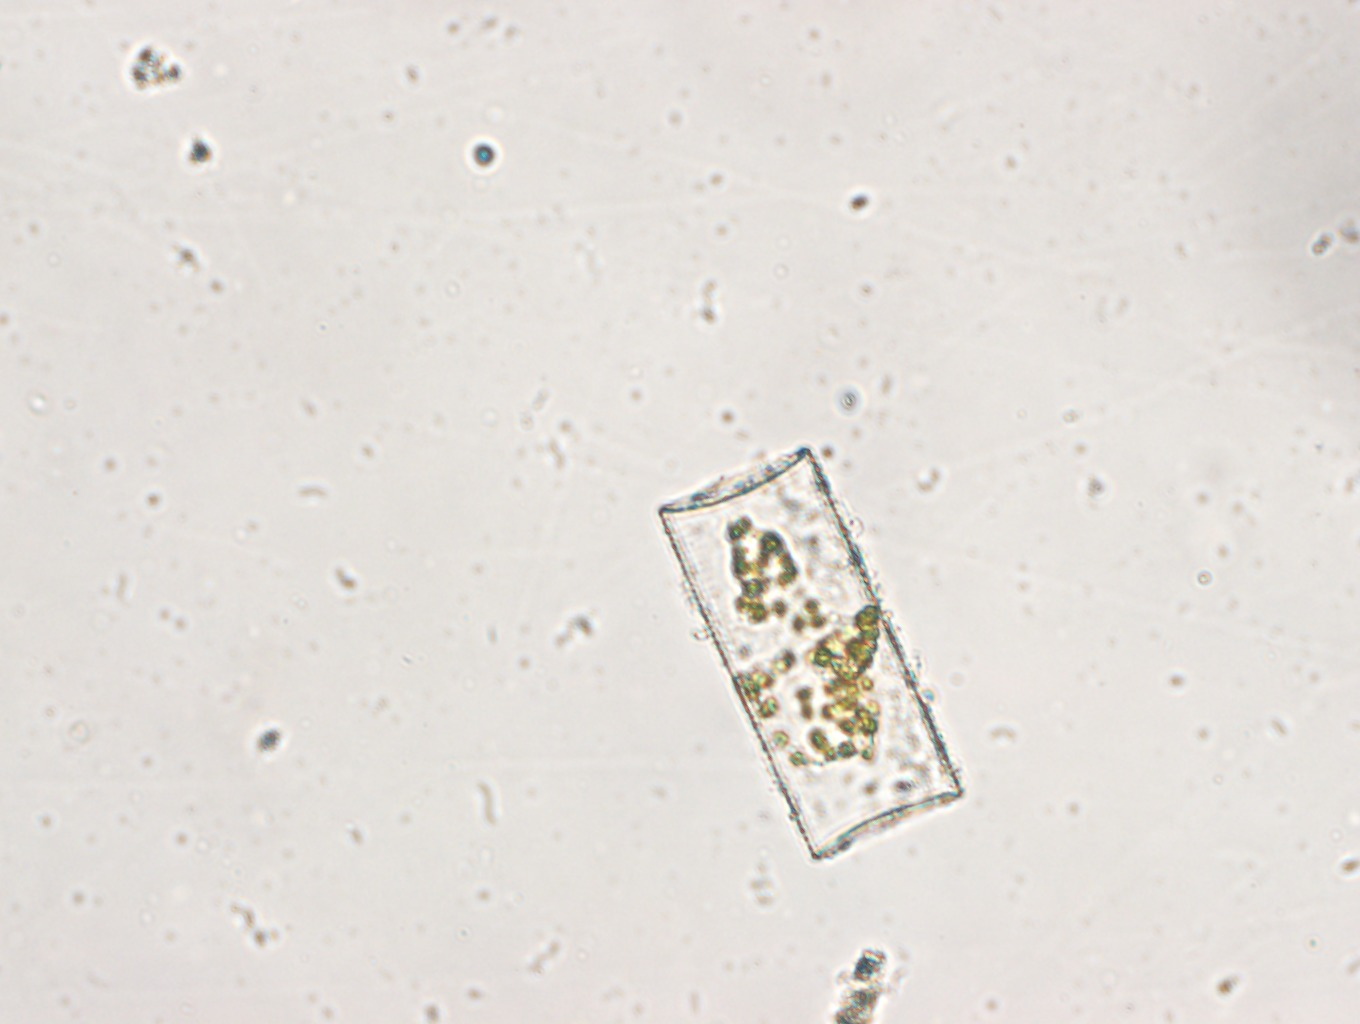guinardia flaccida: (655, 441, 968, 861)
